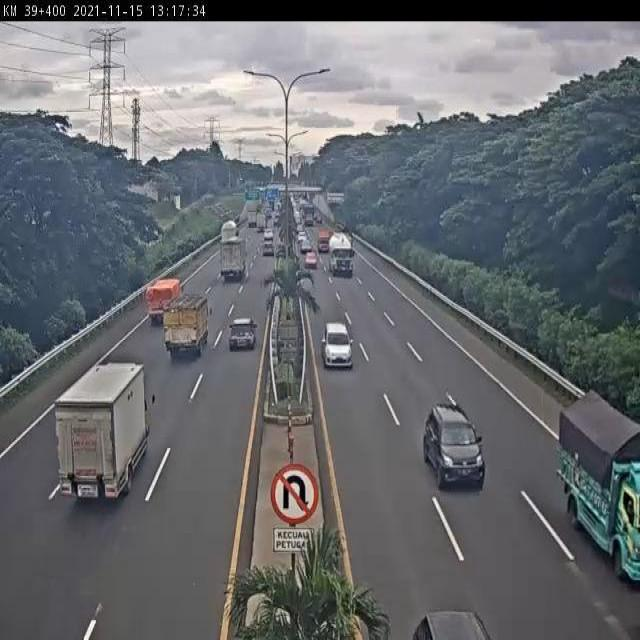car: (422, 403, 486, 492), (322, 321, 354, 372), (228, 314, 257, 350)
truck-l-: (328, 230, 354, 278)
truck-m-: (553, 381, 640, 591), (56, 360, 150, 501), (164, 294, 211, 358), (145, 274, 184, 330), (218, 235, 251, 285)
